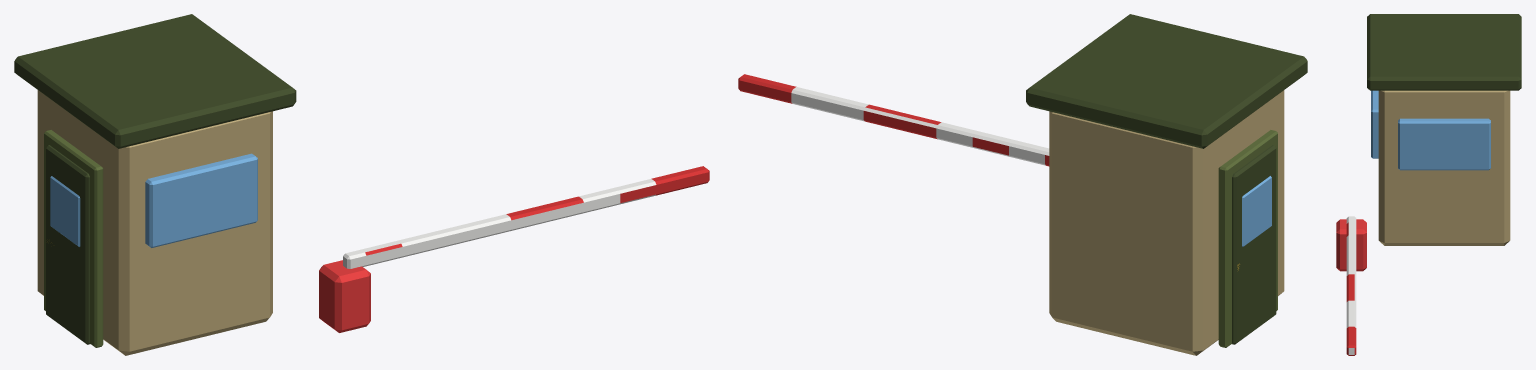
The model's file is GuardPost.fbx.
3 renders of one model, left to right at view 1: azimuth 30°, elevation 25°; view 2: azimuth 150°, elevation 25°; view 3: azimuth 270°, elevation 25°, orthographic. The views are drawn at different scales.
Parts seen in each view (by area): view 1: GuardPost, GuardPost_BarrierArm; view 2: GuardPost, GuardPost_BarrierArm; view 3: GuardPost, GuardPost_BarrierArm.
Part boxes in pixels (left/top/right/bottom): GuardPost: left=14, top=14, right=370, bottom=355; GuardPost_BarrierArm: left=343, top=166, right=709, bottom=268; GuardPost: left=1026, top=14, right=1307, bottom=355; GuardPost_BarrierArm: left=738, top=74, right=1049, bottom=166; GuardPost: left=1336, top=14, right=1521, bottom=271; GuardPost_BarrierArm: left=1346, top=216, right=1356, bottom=355.
Size of the model in its own units: 12.81 by 5 by 4.8.
1 material, 1 textured.
